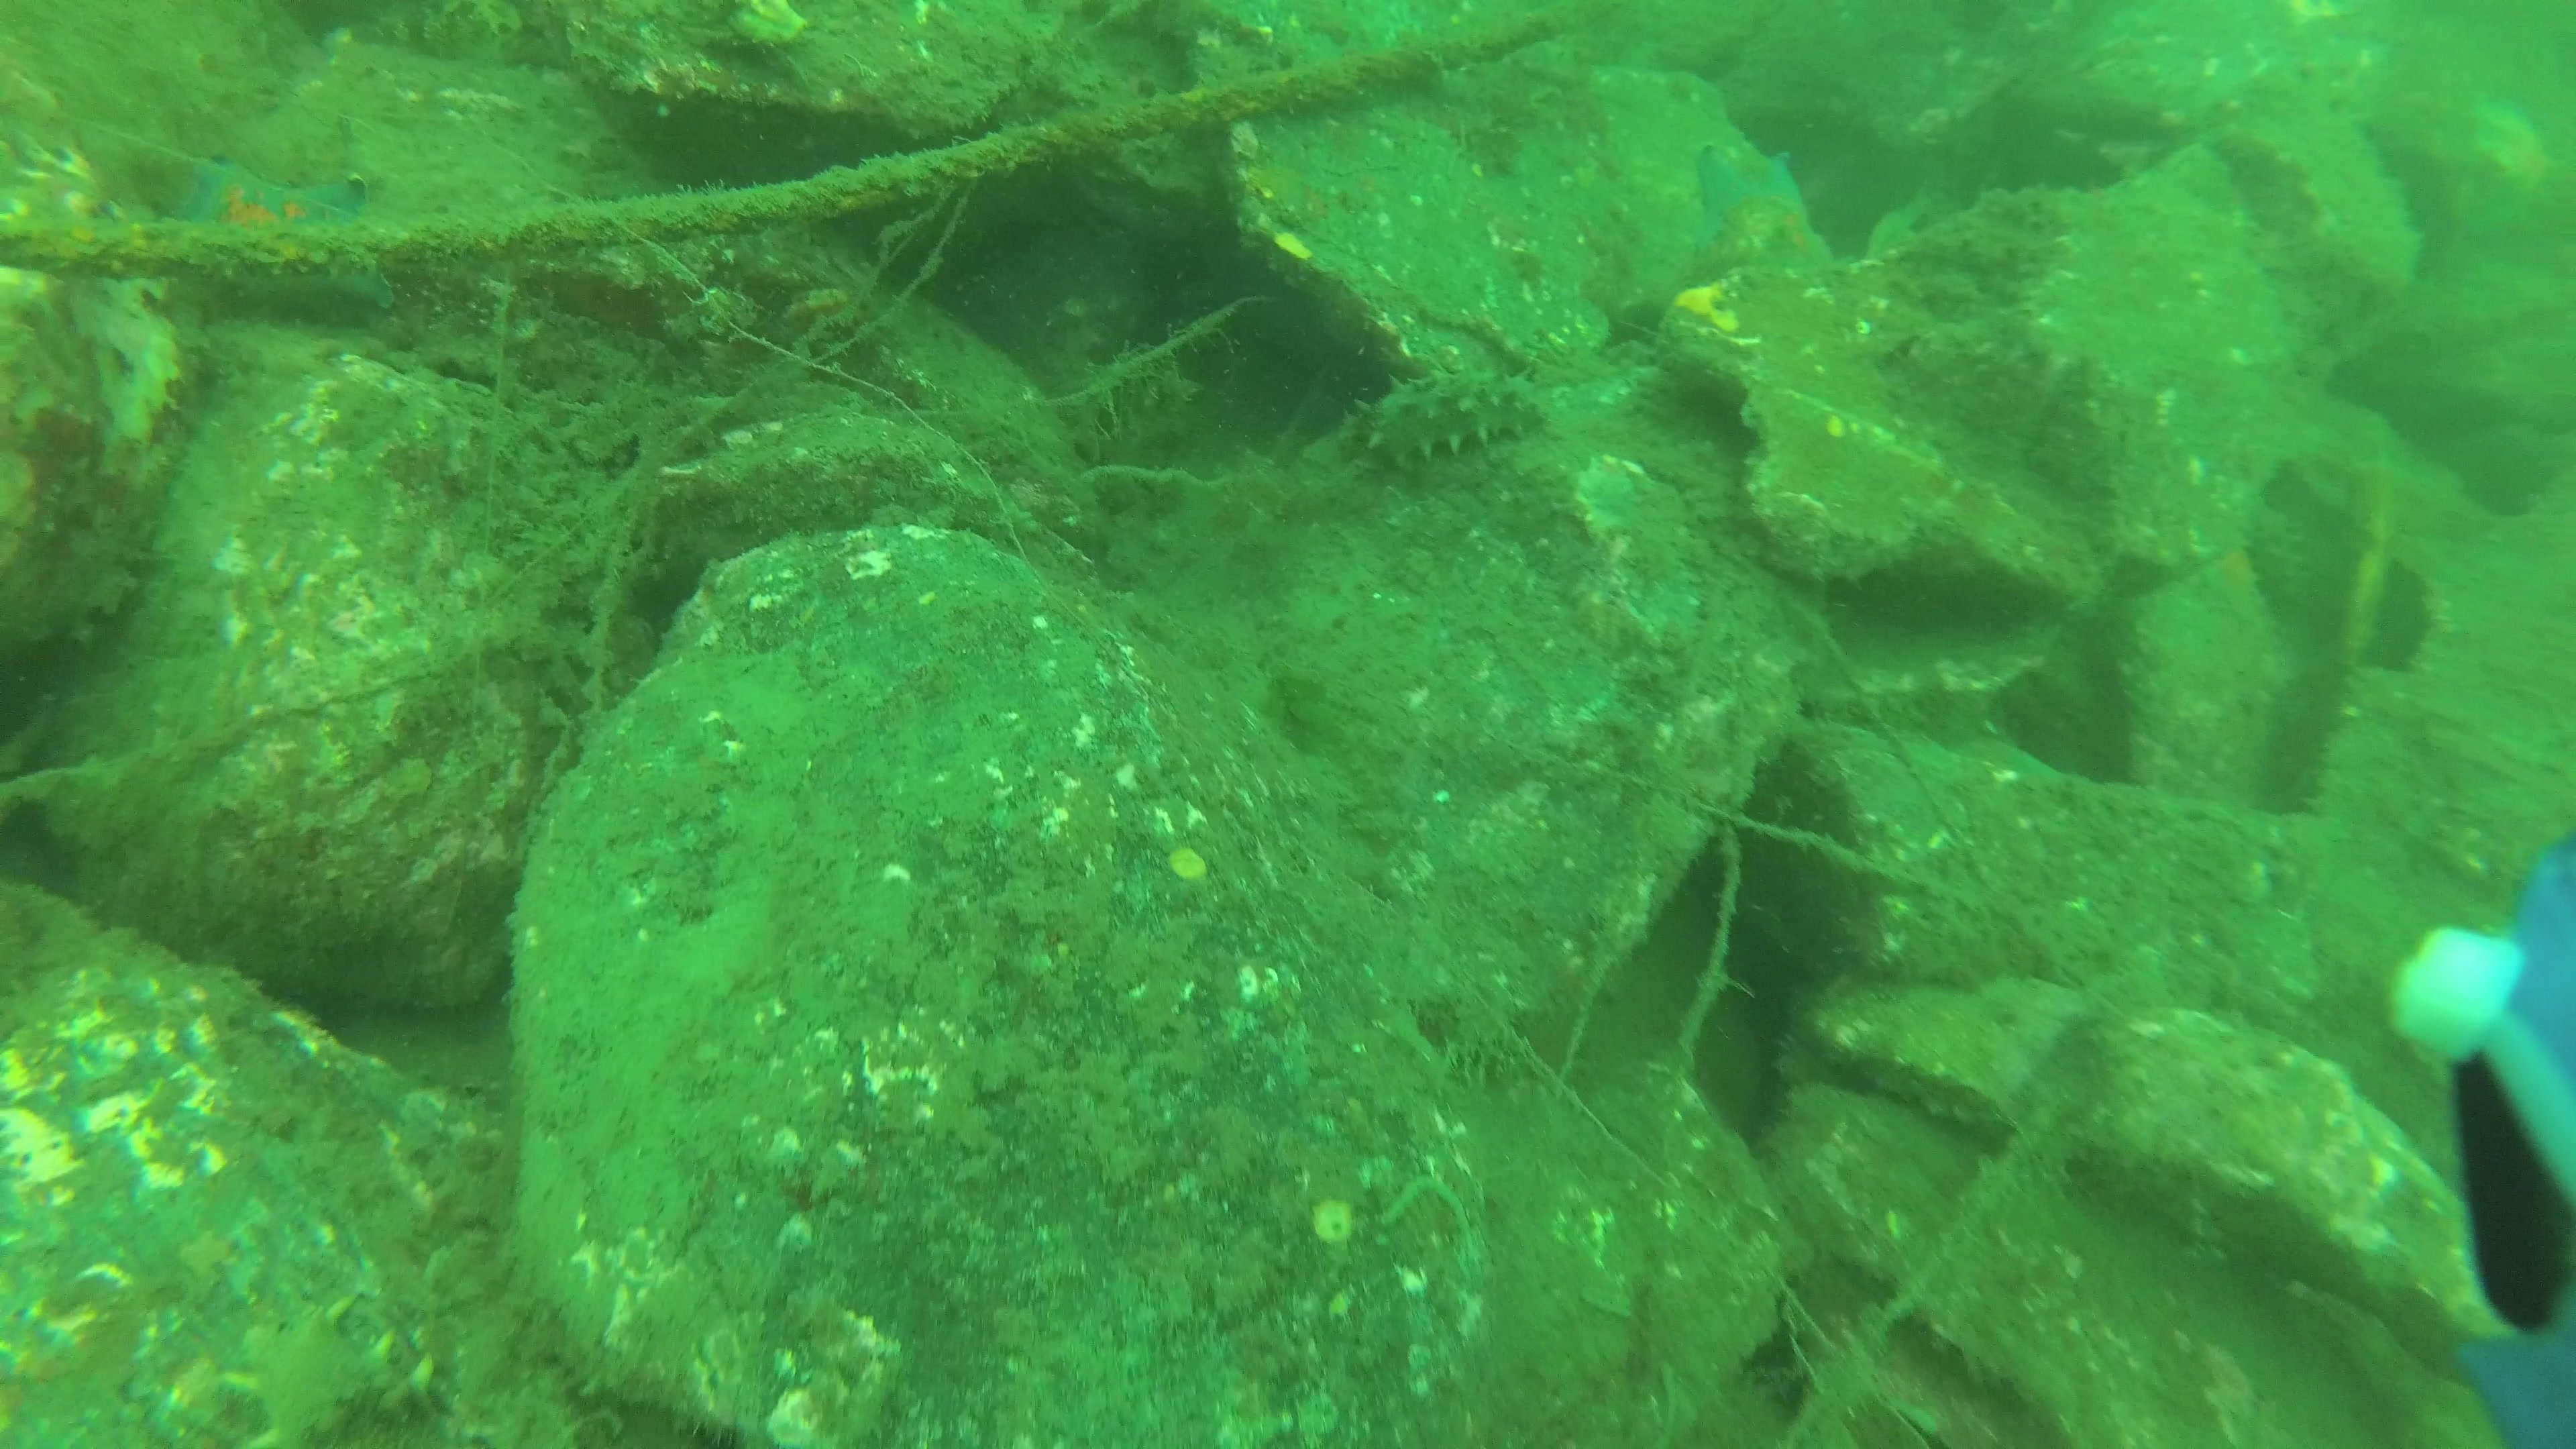holothurian: (1338, 375, 1552, 471)
starfish: (175, 156, 398, 324), (1684, 133, 1824, 292)
